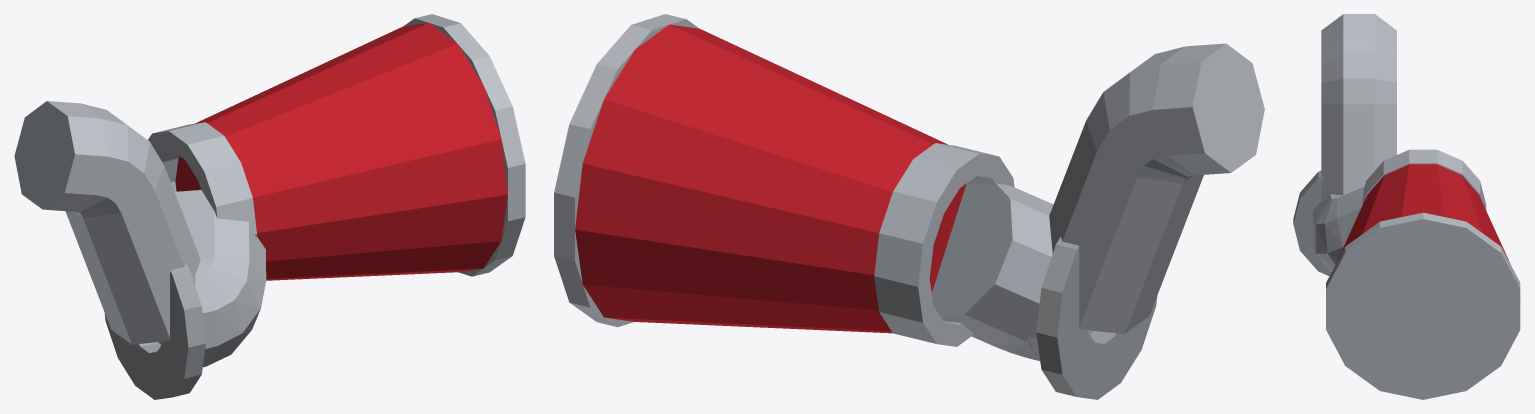
Rendered from ridgeback_4x4.glb.
3 renders of one model, left to right at view 1: azimuth 30°, elevation 25°; view 2: azimuth 150°, elevation 25°; view 3: azimuth 270°, elevation 25°, orthographic. The views are drawn at different scales.
Parts seen in each view (by area): view 1: model; view 2: model; view 3: model.
Boxes of the visible parts, box(x1,y1,x2,y2) form: model: box(14, 14, 525, 399); model: box(554, 14, 1264, 399); model: box(1293, 14, 1520, 399).
Size of the model in its own units: 0.32 by 0.1983 by 0.1773.
Materials: 2 (1 with a texture image).
